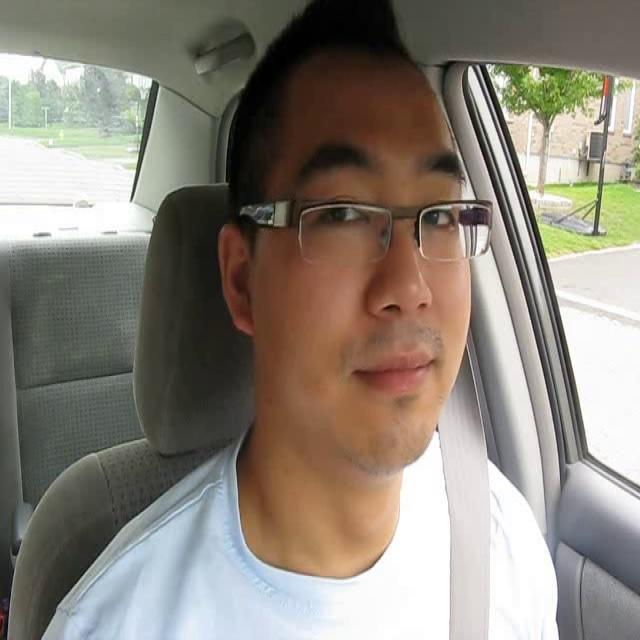close: (347, 349, 439, 400)
